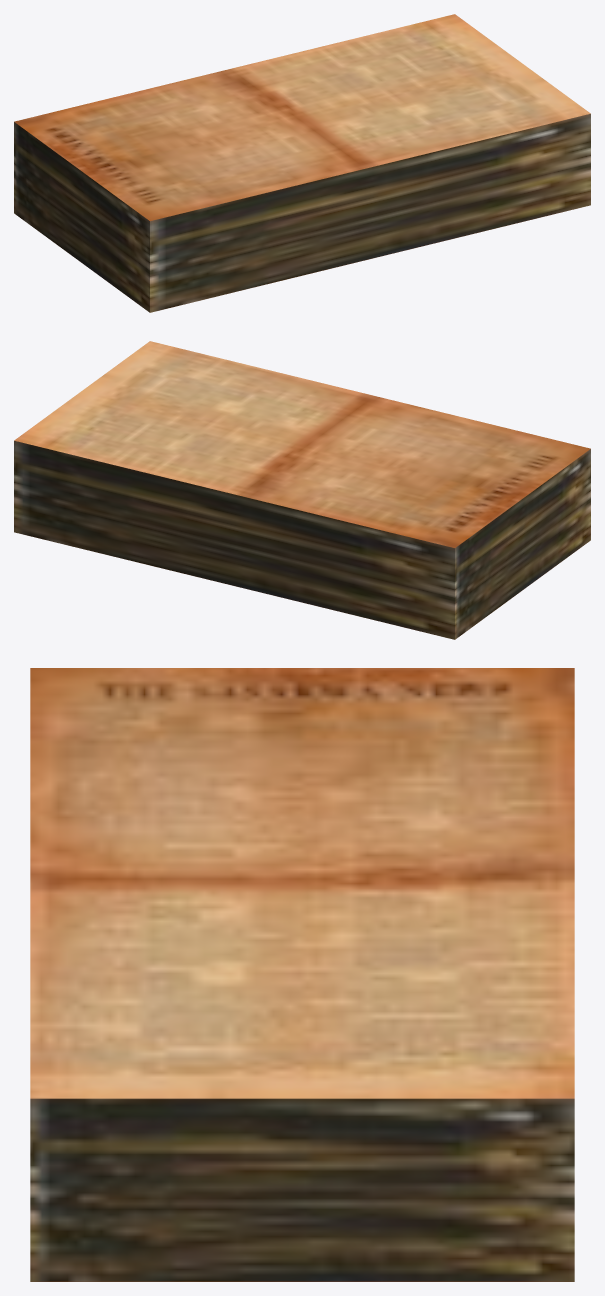
File: newspapers.glb
The picture shows the model from 3 angles, top to bottom: view 1: azimuth 30°, elevation 25°; view 2: azimuth 150°, elevation 25°; view 3: azimuth 270°, elevation 25°; orthographic projection. The views are drawn at different scales.
Visible parts, largest first — view 1: newspapers.ms3d.mo; view 2: newspapers.ms3d.mo; view 3: newspapers.ms3d.mo.
Part boxes in pixels (x1=…): newspapers.ms3d.mo: x1=14, y1=14, x2=590, y2=312; newspapers.ms3d.mo: x1=14, y1=341, x2=590, y2=639; newspapers.ms3d.mo: x1=30, y1=668, x2=574, y2=1281.
Bounding box in the file's own units: 36.5 × 7.25 × 19.5.
1 material, 1 textured.
